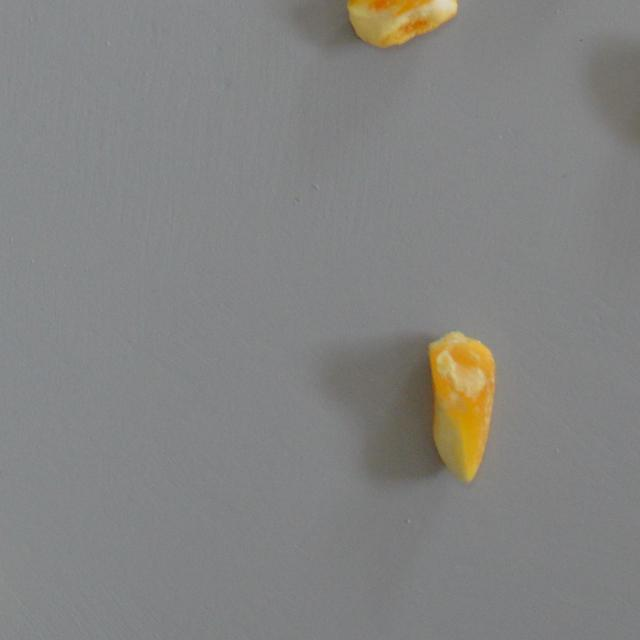pelicula: (421, 331, 503, 483), (346, 0, 461, 49)
